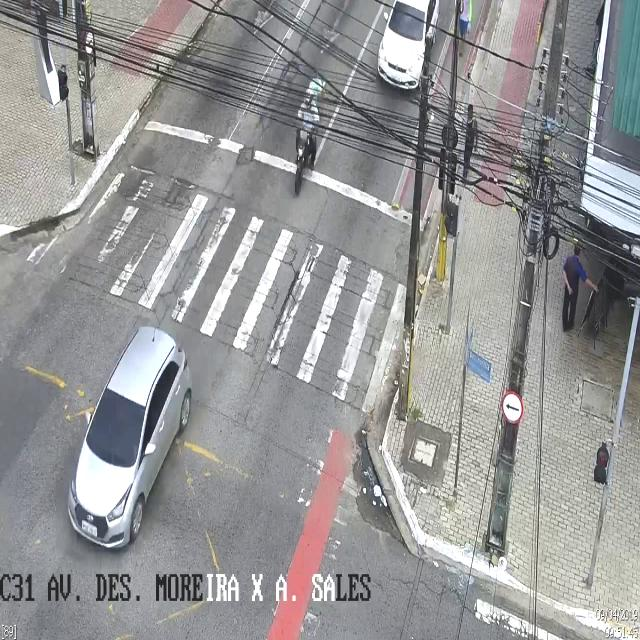Car: (65, 328, 191, 550), (378, 1, 440, 91)
Motorcycle: (294, 74, 326, 194)
